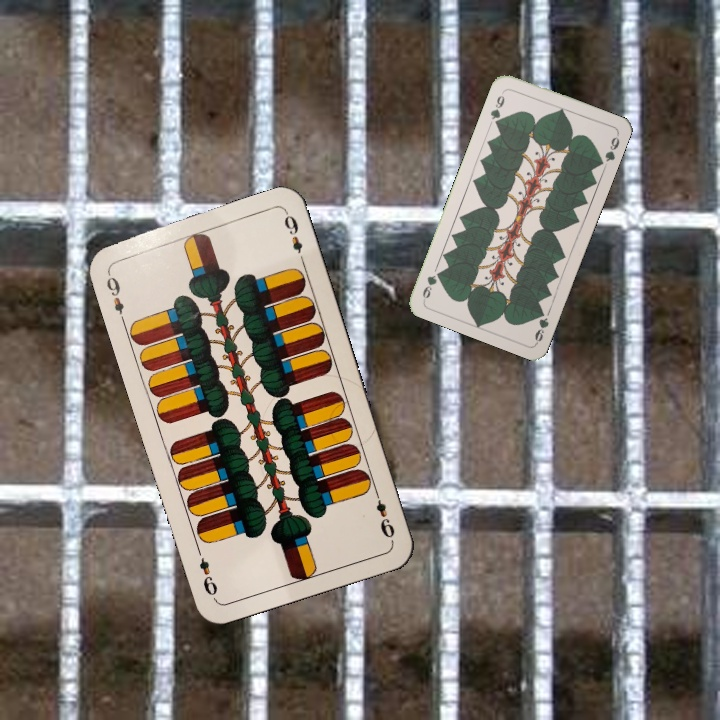E9: (370, 486, 398, 543), (102, 267, 128, 325)
G9: (486, 87, 507, 128), (531, 305, 551, 346)
